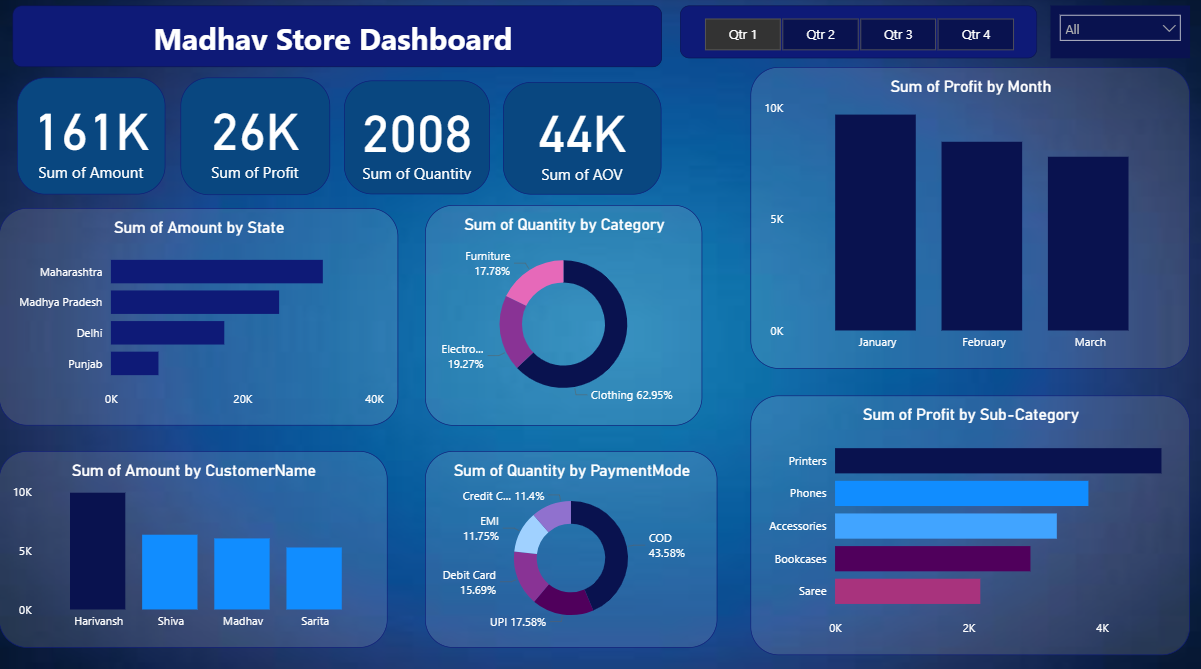

The page's visual inventory and layout, read from the dashboard file:
{"tool":"powerbi","page":{"name":"Madhav store dashboard","canvas":[1280,720],"ordinal":0},"visuals":[{"type":"clusteredColumnChart","fields":{"Category":["Orders (2).Order Date.Variation.Date Hierarchy.Month"],"Y":["Details (2).Profit"]},"box":[796.9,76.3,466,319.7],"z":0},{"type":"textbox","box":[14.3,11.1,688.7,65.2],"z":1000},{"type":"card","fields":{"Values":["Details (2).Amount"]},"box":[19.1,87.5,157.5,124.1],"z":2000},{"type":"card","fields":{"Values":["Details (2).Profit"]},"box":[192.8,86.9,158.7,124.7],"z":3000},{"type":"card","fields":{"Values":["Details (2).Quantity"]},"box":[366.6,90.7,155,120.9],"z":4000},{"type":"card","fields":{"Values":["Details (2).AOV"]},"box":[534.8,92.6,168.2,119.1],"z":5000},{"type":"clusteredBarChart","fields":{"Category":["Details (2).Sub-Category"],"Y":["Details (2).Profit"]},"box":[796.9,424.7,466,275.2],"z":6000},{"type":"columnChart","fields":{"Category":["Orders (2).CustomerName"],"Y":["Details (2).Amount"]},"box":[0,483.5,412,208.4],"z":7000},{"type":"clusteredBarChart","fields":{"Category":["Orders (2).State"],"Y":["Details (2).Amount"]},"box":[0,225.9,423.1,230.6],"z":8000},{"type":"donutChart","fields":{"Category":["Details (2).PaymentMode"],"Y":["Details (2).Quantity"]},"box":[451.7,483.5,310.2,208.4],"z":9000},{"type":"donutChart","fields":{"Category":["Details (2).Category"],"Y":["Details (2).Quantity"]},"box":[451.7,222.7,294.3,233.8],"z":10000},{"type":"slicer","fields":{"Values":["Orders (2).Order Date.Variation.Date Hierarchy.Quarter"]},"box":[722.1,11.1,378.6,55.7],"z":11000},{"type":"slicer","fields":{"Values":["Orders (2).State"]},"box":[1115,11.1,147.9,55.7],"z":12000}]}

Visuals, with their boxes in screenshot pixels (x1, y1, x2, y2), scaled from the page's 1280x720 canvas onto the 1201x669 screenshot:
clusteredColumnChart - Orders (2).Order Date.Variation.Date Hierarchy.Month x Details (2).Profit: region(748, 71, 1185, 368)
textbox: region(13, 10, 660, 71)
card - Details (2).Amount: region(18, 81, 166, 197)
card - Details (2).Profit: region(181, 81, 330, 197)
card - Details (2).Quantity: region(344, 84, 489, 197)
card - Details (2).AOV: region(502, 86, 660, 197)
clusteredBarChart - Details (2).Sub-Category x Details (2).Profit: region(748, 395, 1185, 650)
columnChart - Orders (2).CustomerName x Details (2).Amount: region(0, 449, 387, 643)
clusteredBarChart - Orders (2).State x Details (2).Amount: region(0, 210, 397, 424)
donutChart - Details (2).PaymentMode x Details (2).Quantity: region(424, 449, 715, 643)
donutChart - Details (2).Category x Details (2).Quantity: region(424, 207, 700, 424)
slicer - Orders (2).Order Date.Variation.Date Hierarchy.Quarter: region(678, 10, 1033, 62)
slicer - Orders (2).State: region(1046, 10, 1185, 62)
